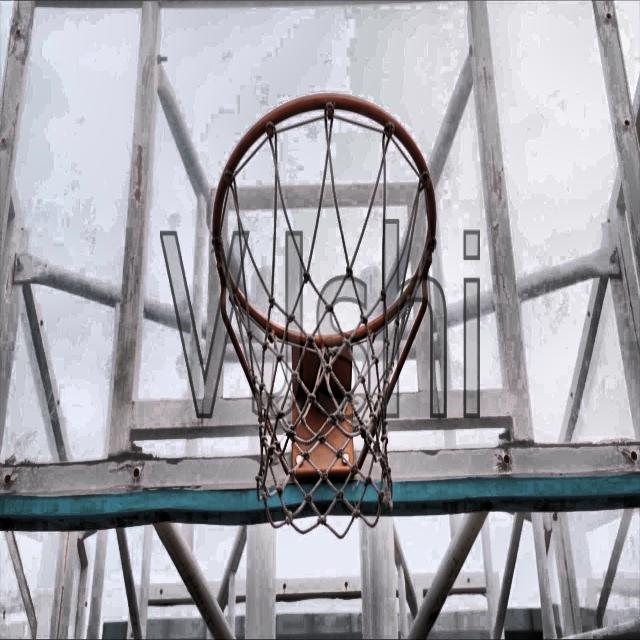rim: (213, 94, 439, 539)
